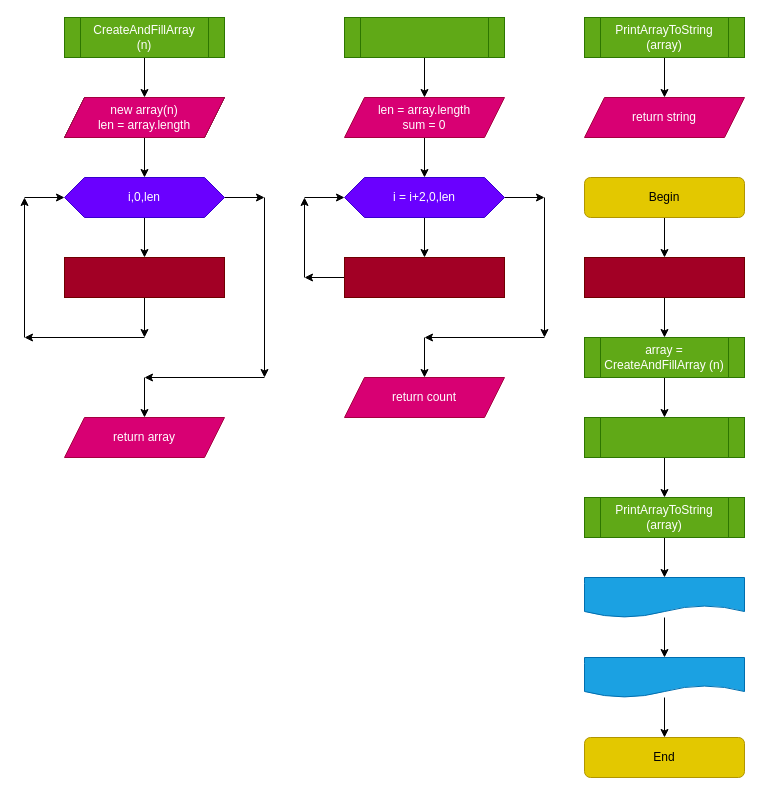
This 762x795 diagram has some shape labels left out. The centre of each missing label's shape, as x and y in pixels:
array: [664,597]
array[i] = Random(0,99): [144,277]
CountSumOddPosArray (array): [424,37]
n = 7, sum = 0: [664,277]
sum: [664,677]
sum += array[i]: [424,277]
sum = CountSumOddPosArray (array): [664,437]
